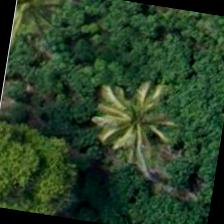Kelapa_Sawit: (73, 69, 176, 172)
